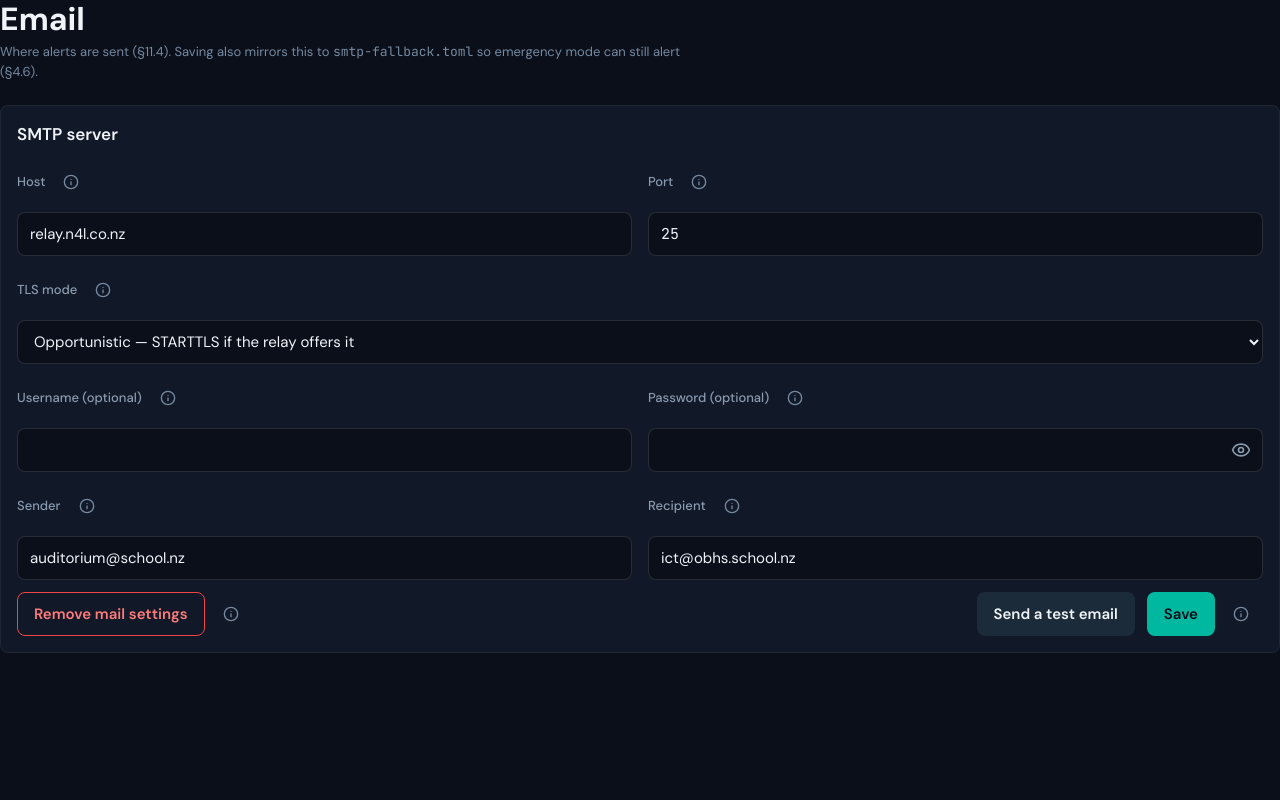
Scenario: EmailScreen — removing the mail settings (DELETE /system/email) › refreshes the screen after removing
The image size is (1280, 800).
Expected: the field showing "relay.n4l.co.nz" is shown, x1=17 y1=212 x2=632 y2=256
Step 1. Click the button "Remove mail settings" → (111, 614), box x1=17 y1=592 x2=205 y2=636
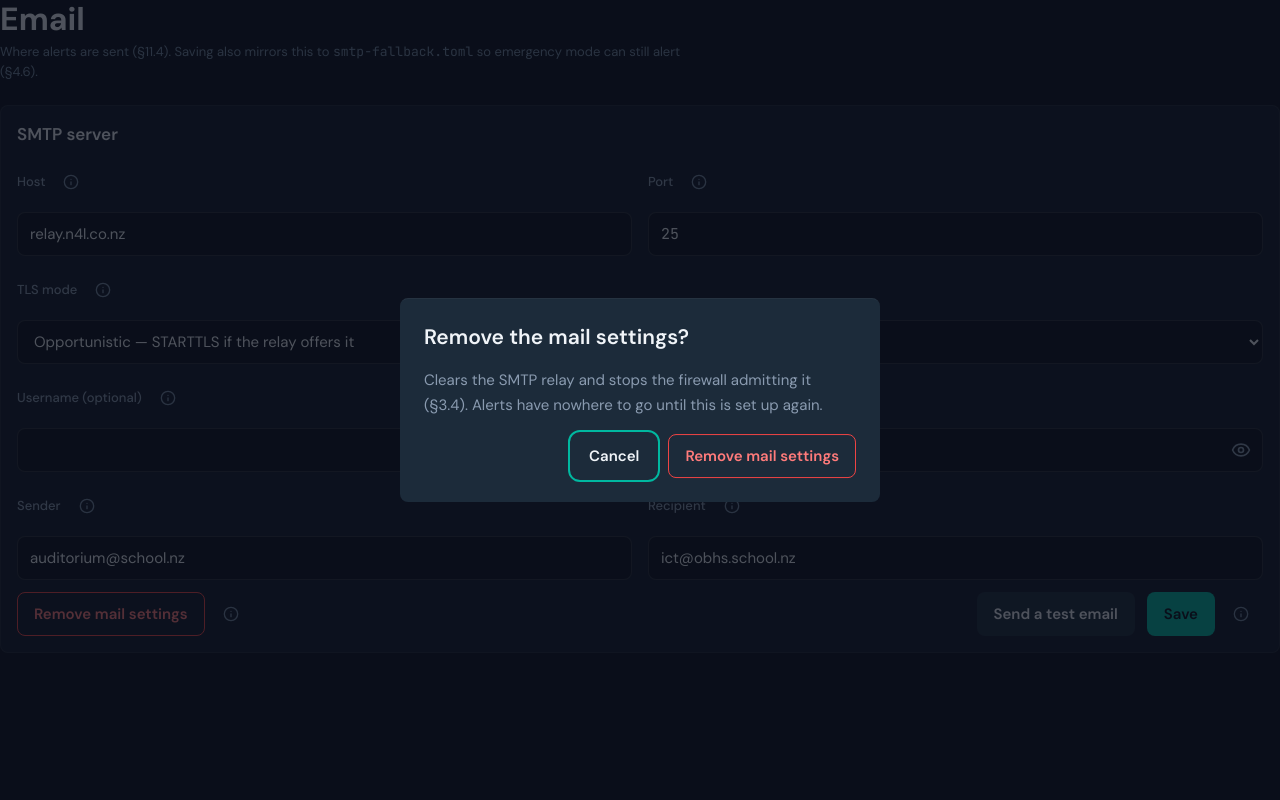
Step 2. Click the button "Remove mail settings" → (762, 456), box x1=668 y1=434 x2=856 y2=478
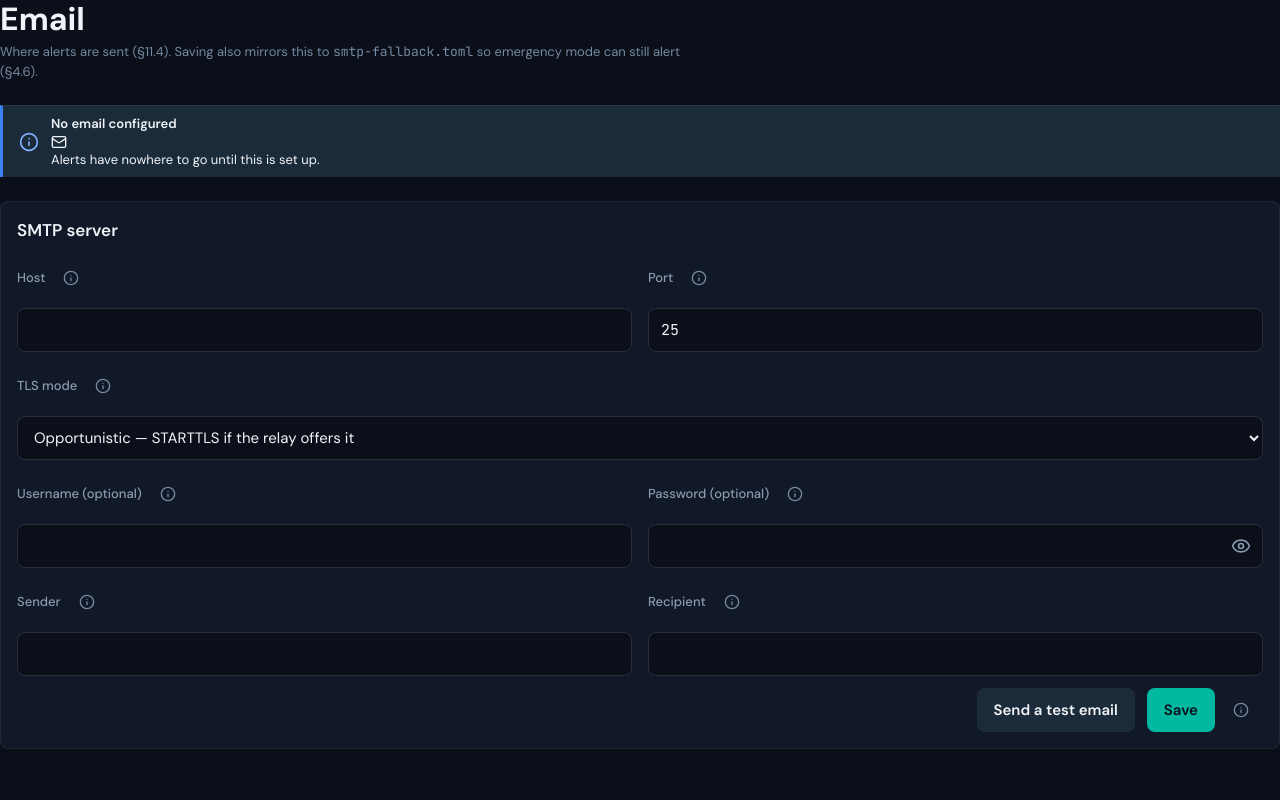
Expected: the field showing "relay.n4l.co.nz" is not shown
Expected: the text "No email configured" is shown, x1=51 y1=115 x2=177 y2=132
